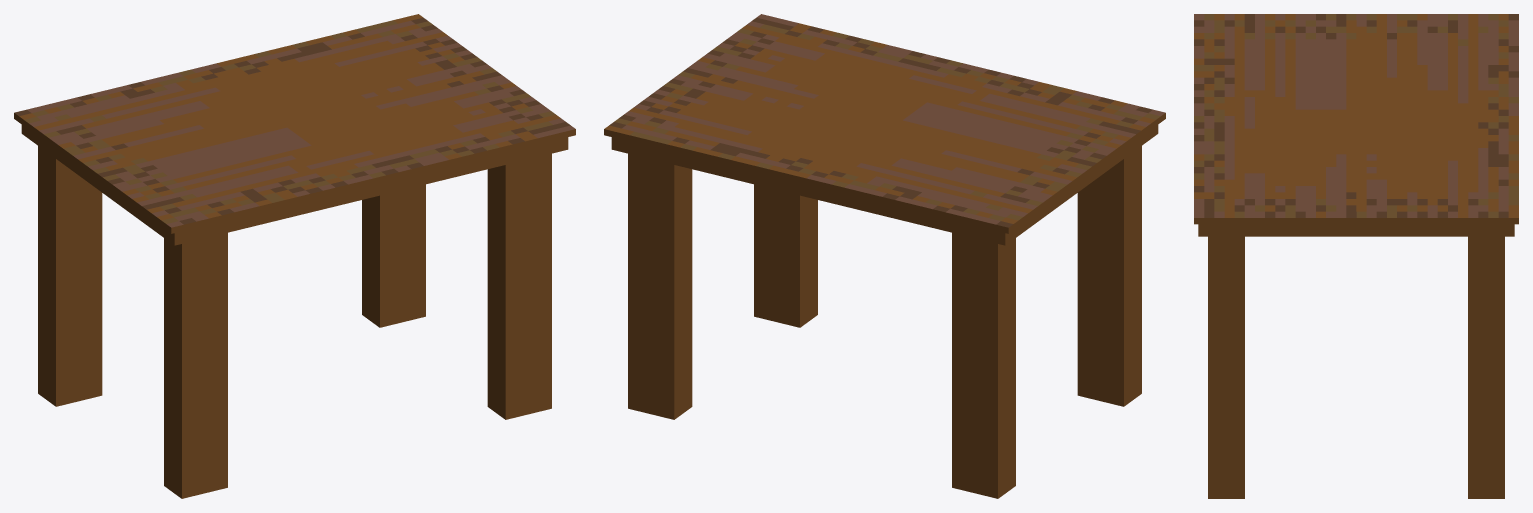
File: table2.fbx
The picture shows the model from 3 angles, left to right: view 1: azimuth 30°, elevation 25°; view 2: azimuth 150°, elevation 25°; view 3: azimuth 270°, elevation 25°; orthographic projection. The views are drawn at different scales.
Visible parts, largest first — view 1: table; view 2: table; view 3: table.
Part boxes in pixels (x1,y1,x2,y2): table: (14,14,575,498); table: (604,14,1165,498); table: (1194,14,1518,498).
Bounding box in the file's own units: 1621 × 1074 × 1091.
